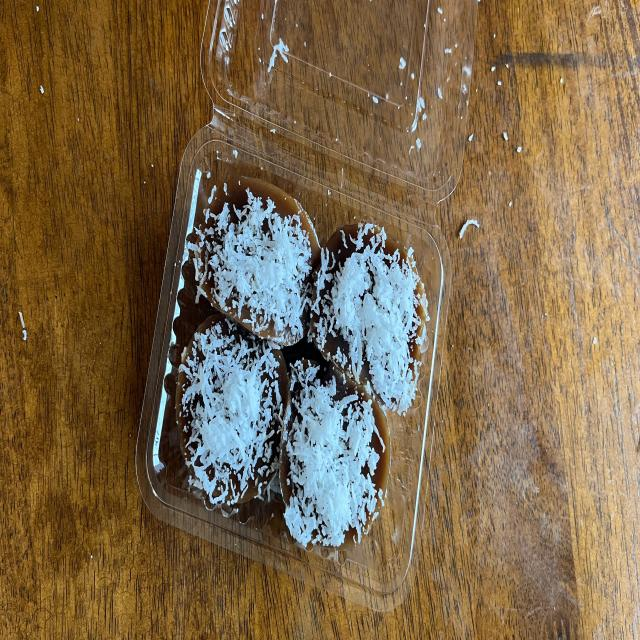Kuih lompang: (188, 171, 320, 347), (310, 222, 429, 413), (176, 316, 288, 507), (280, 360, 390, 547)
